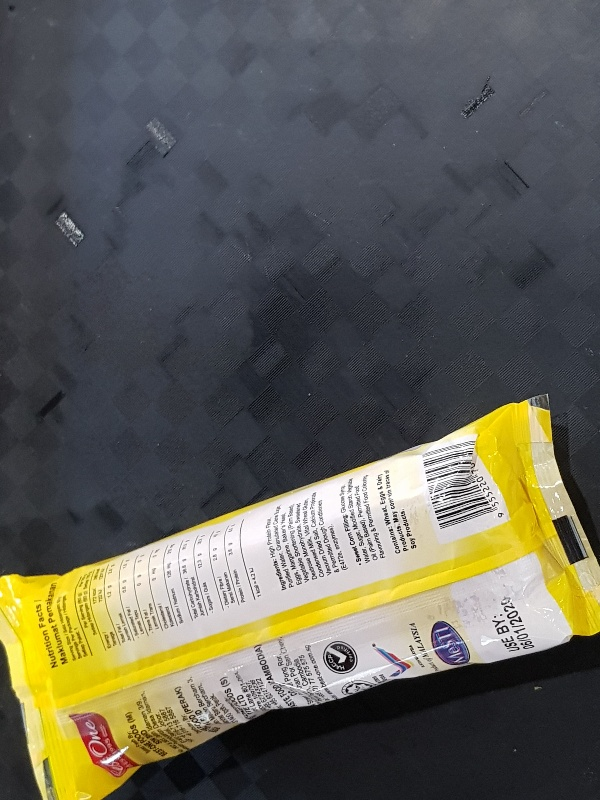Tinges Roll Sweet Corn: (1, 389, 600, 799)
